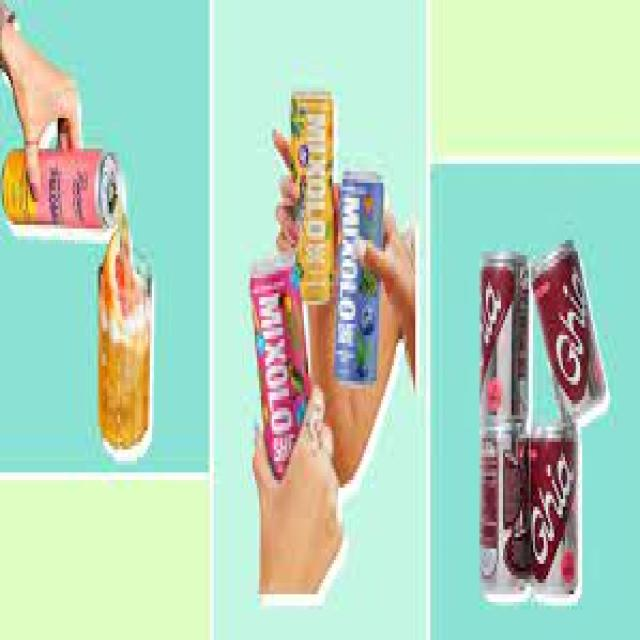Cans: (244, 252, 323, 472), (531, 240, 616, 423), (332, 164, 387, 388), (2, 149, 129, 240), (285, 80, 336, 305), (475, 244, 535, 430), (477, 426, 535, 610), (533, 419, 584, 610)
